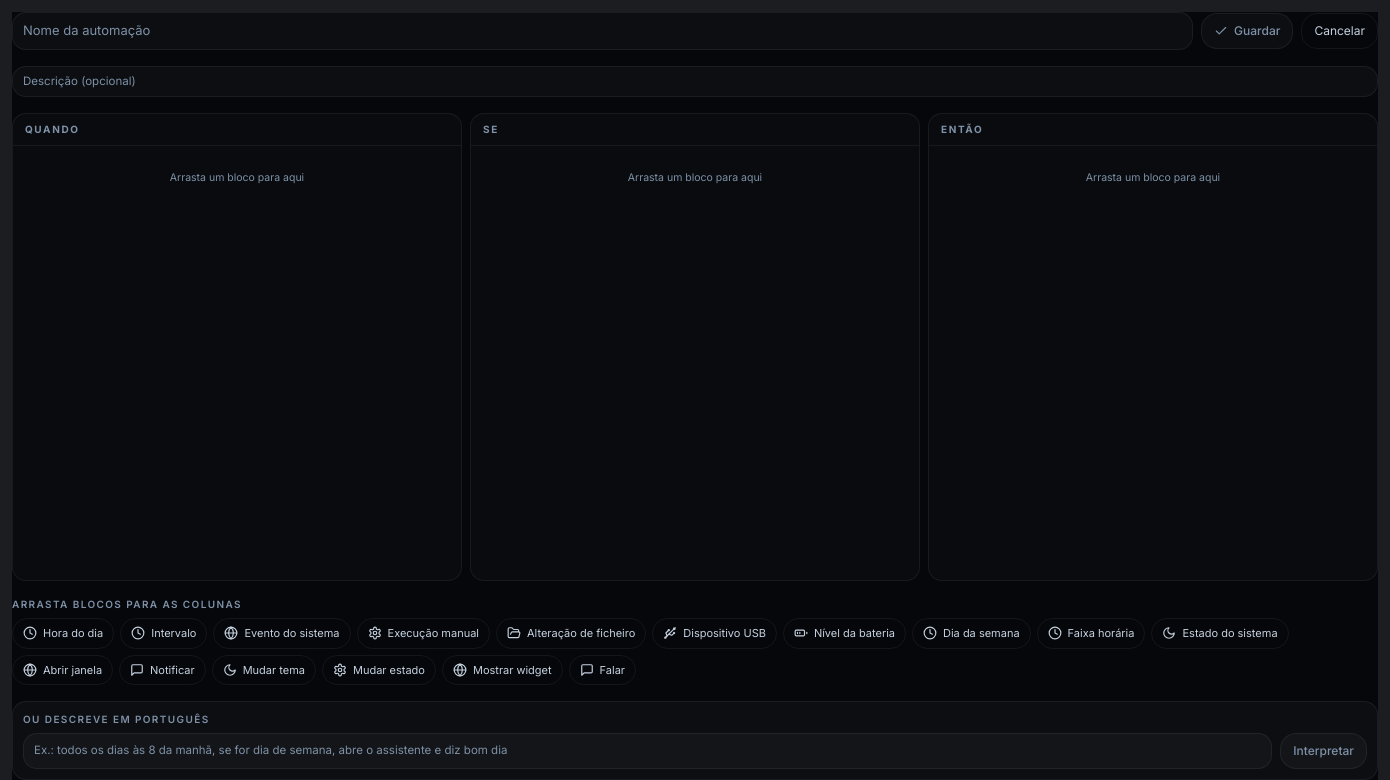
Test: AutomationEditor — geração por linguagem natural › resposta vazia: mostra erro em vez de ficar em silêncio
Type "qualquer coisa" into the field named "Descrever automação em português" at point(648, 751), box [23,733,1272,769]
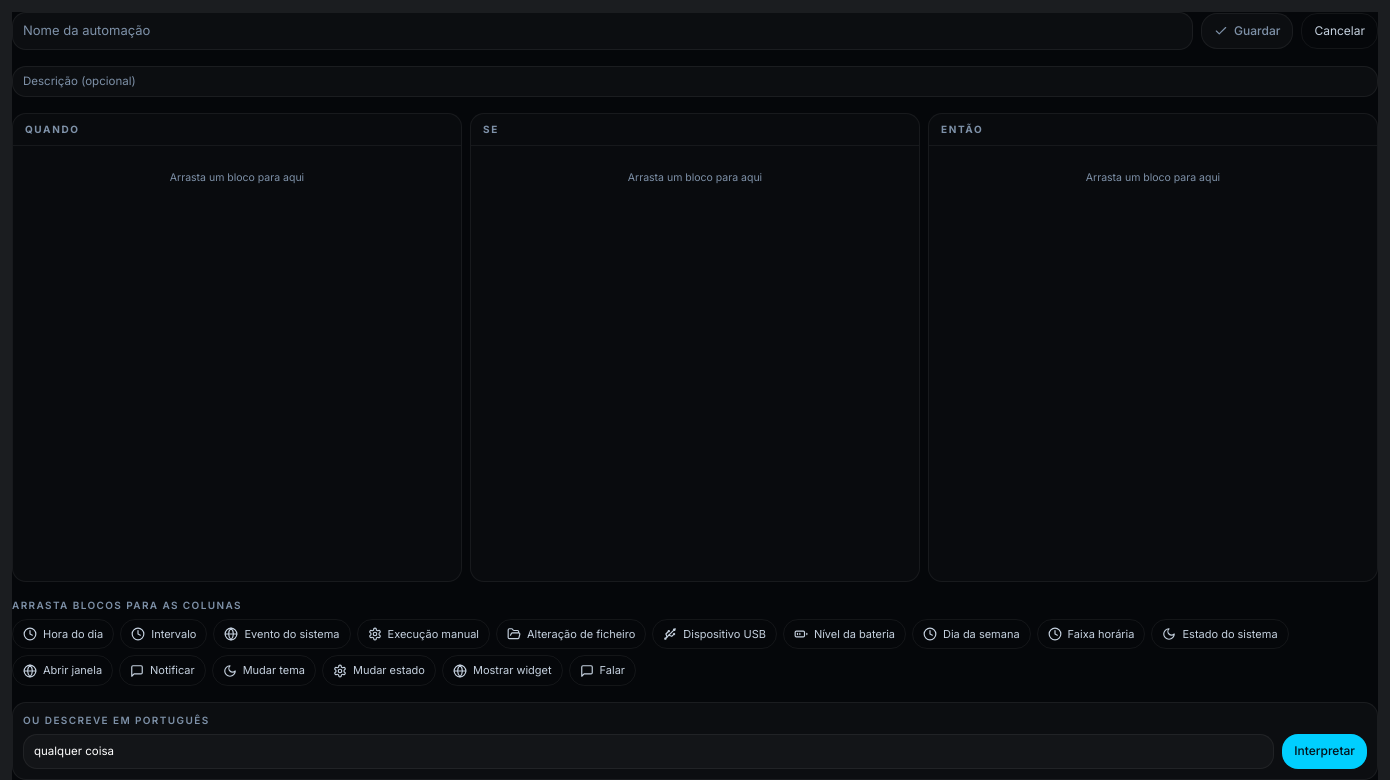
Click the button "Interpretar" at point(1325, 751), box [1282,734,1367,769]
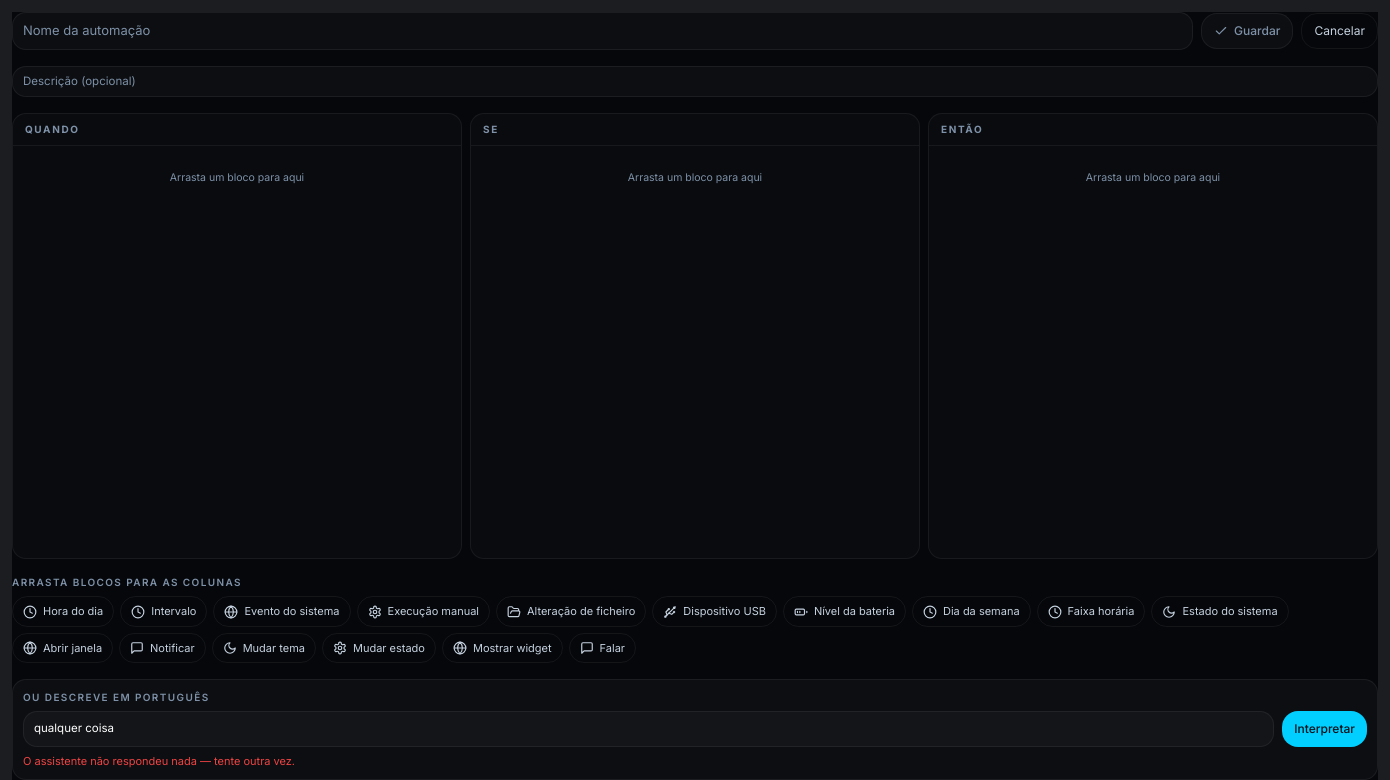
Check: the message shows "não respondeu nada", box [23,754,295,768]
